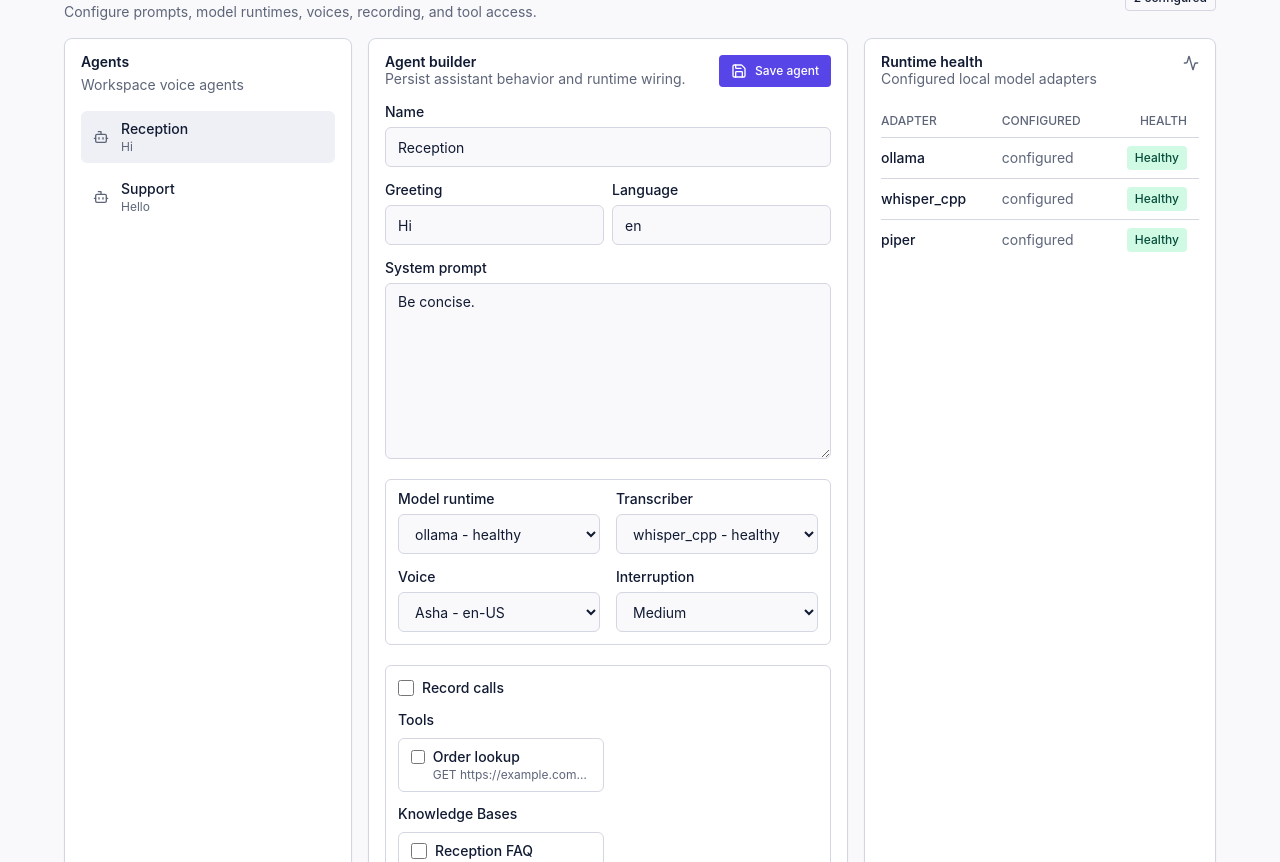
Scenario: AgentsPage › saves runtime, recording, and tool selections for the selected agent
This screenshot has width=1280, height=862.
What coordinates should you click on to do the following:
click the checkbox labelled "Order lookup"
I would click on:
 (418, 757)
Its box is [411,749,425,765].
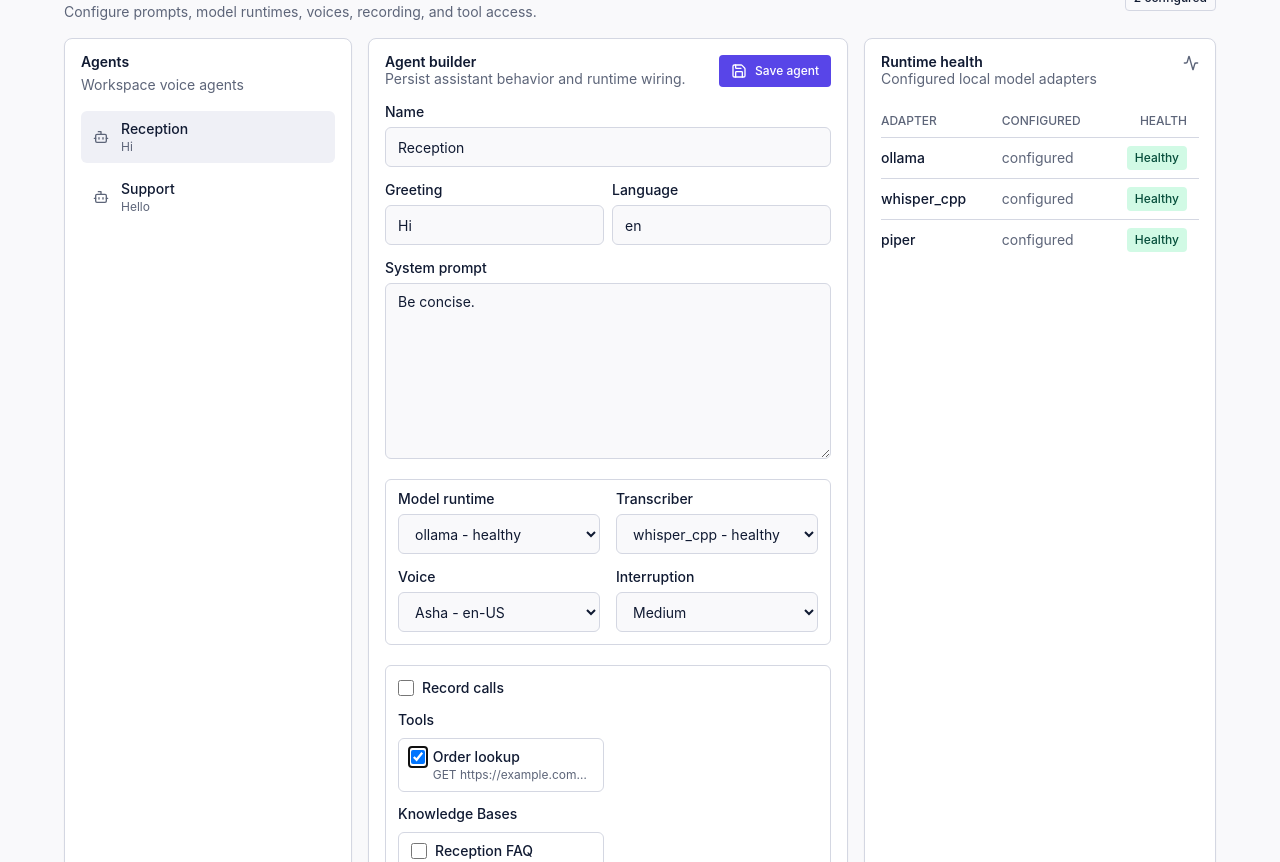
What coordinates should you click on to do the following:
click the checkbox labelled "Reception FAQ"
I would click on:
 (419, 851)
Its box is [411,843,427,859].
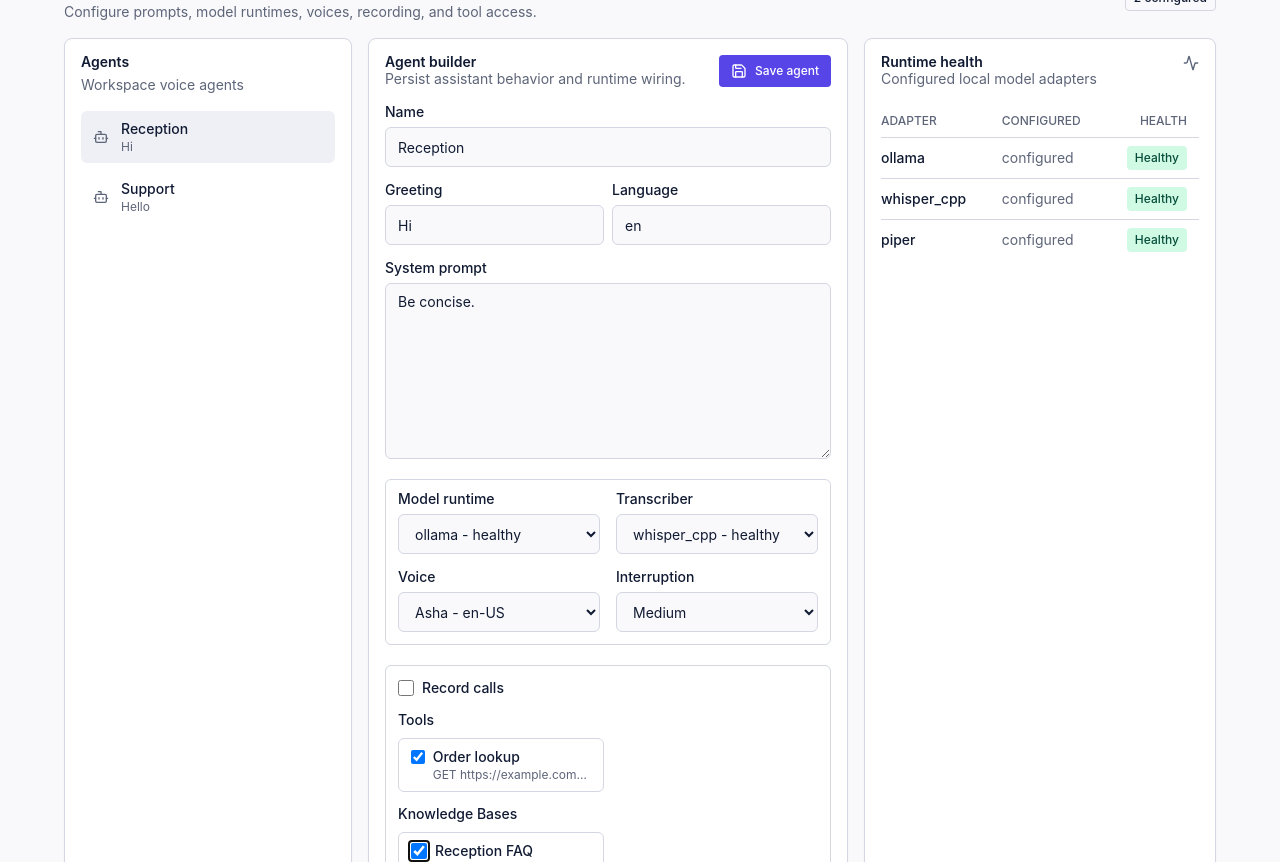
What coordinates should you click on to do the following:
click the checkbox labelled "Record calls"
I would click on:
 (406, 688)
Its box is [398,680,414,696].
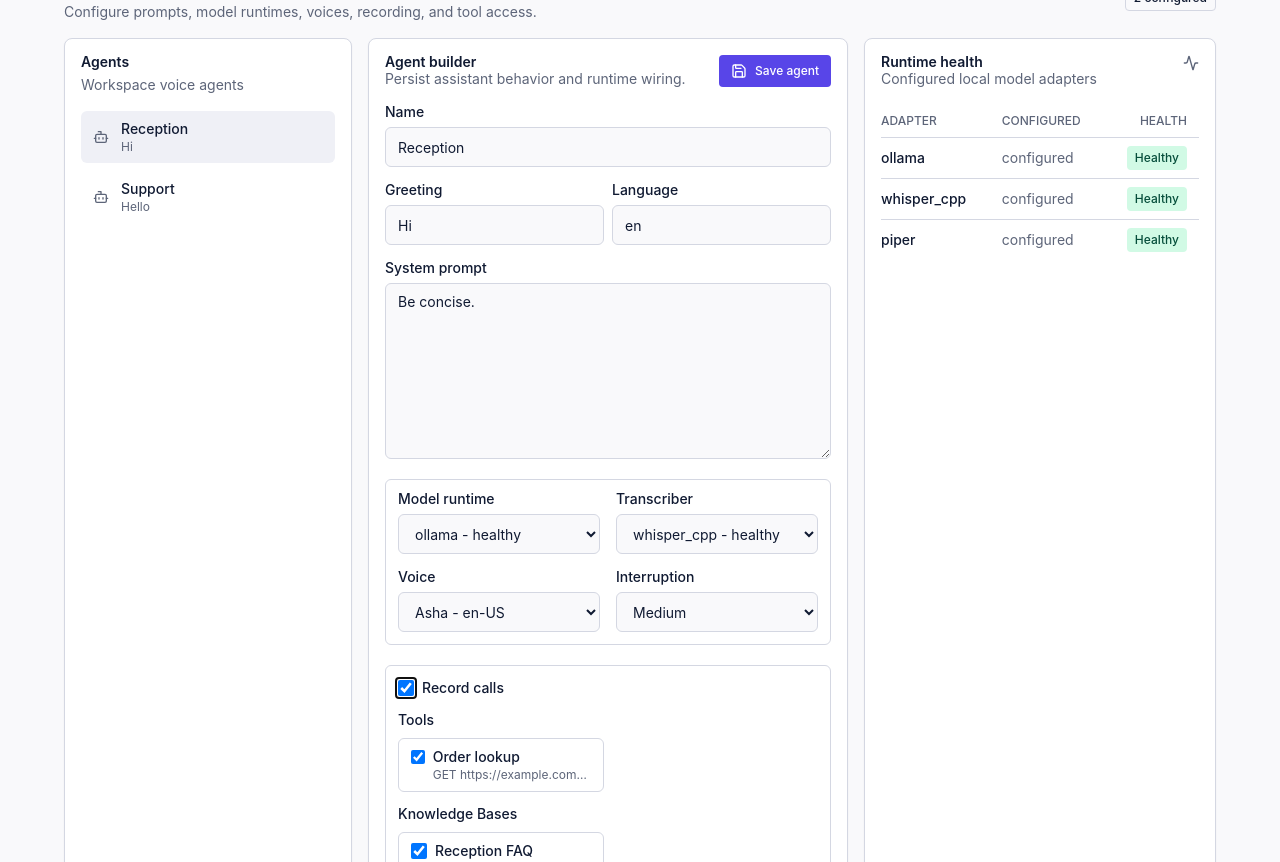
What coordinates should you click on to do the following:
click the button "Save agent"
I would click on:
 (775, 71)
Its box is [719,55,831,87].
(page scrolled)
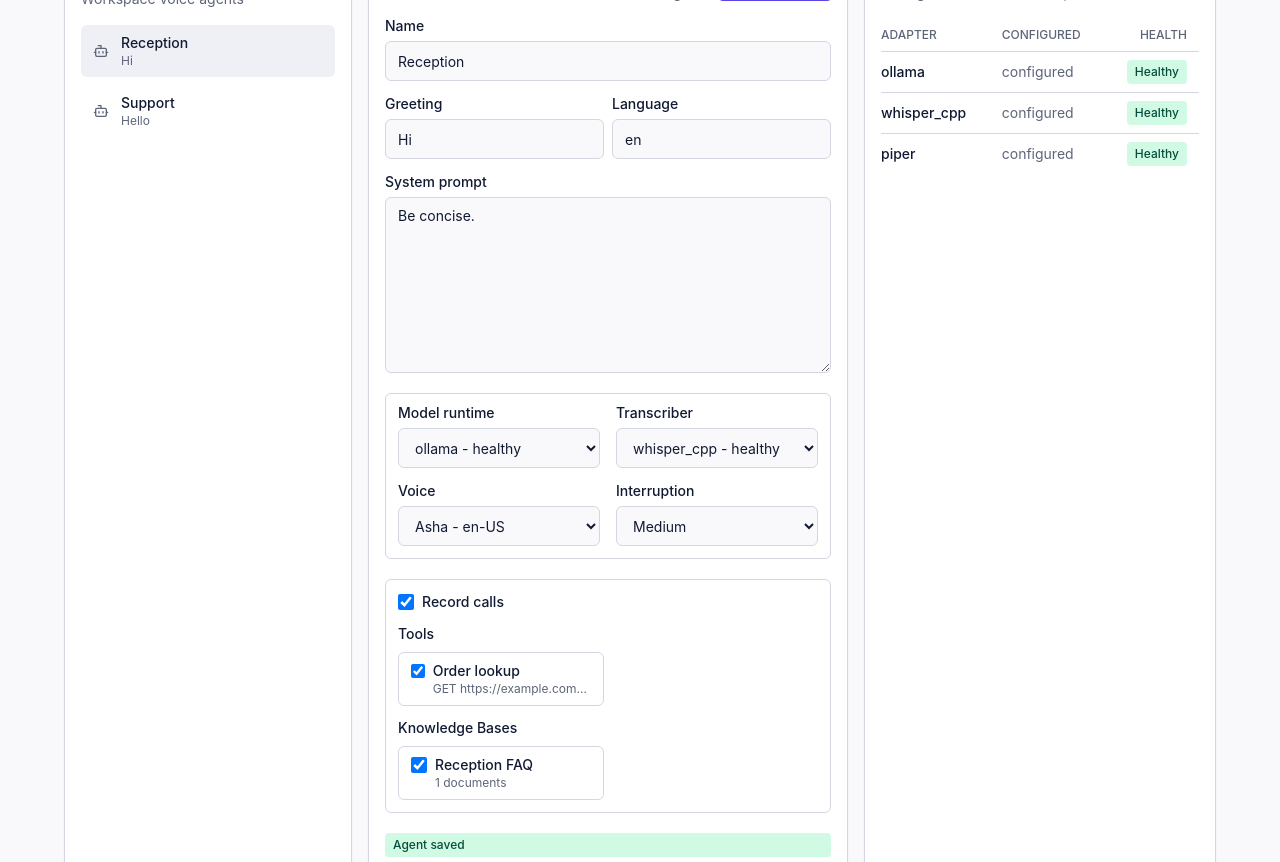
Now the text "Agent saved" is shown, box [385,833,831,857]
